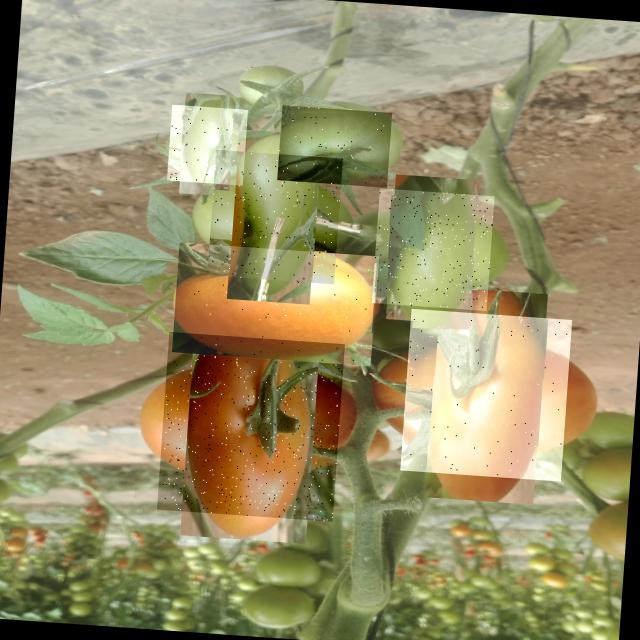Ripe Tomato: (156, 332, 344, 522), (399, 308, 572, 481), (172, 242, 378, 367)
Unripe Tomato: (207, 149, 342, 284), (371, 188, 494, 310), (276, 105, 392, 187), (166, 104, 248, 185)
